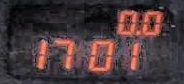-: (134, 29, 140, 34)
0: (86, 39, 113, 71), (140, 10, 162, 35), (115, 9, 136, 34)
1: (127, 40, 140, 71), (35, 39, 46, 68)
7: (52, 38, 74, 69)
